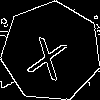X: (26, 27, 72, 81)
